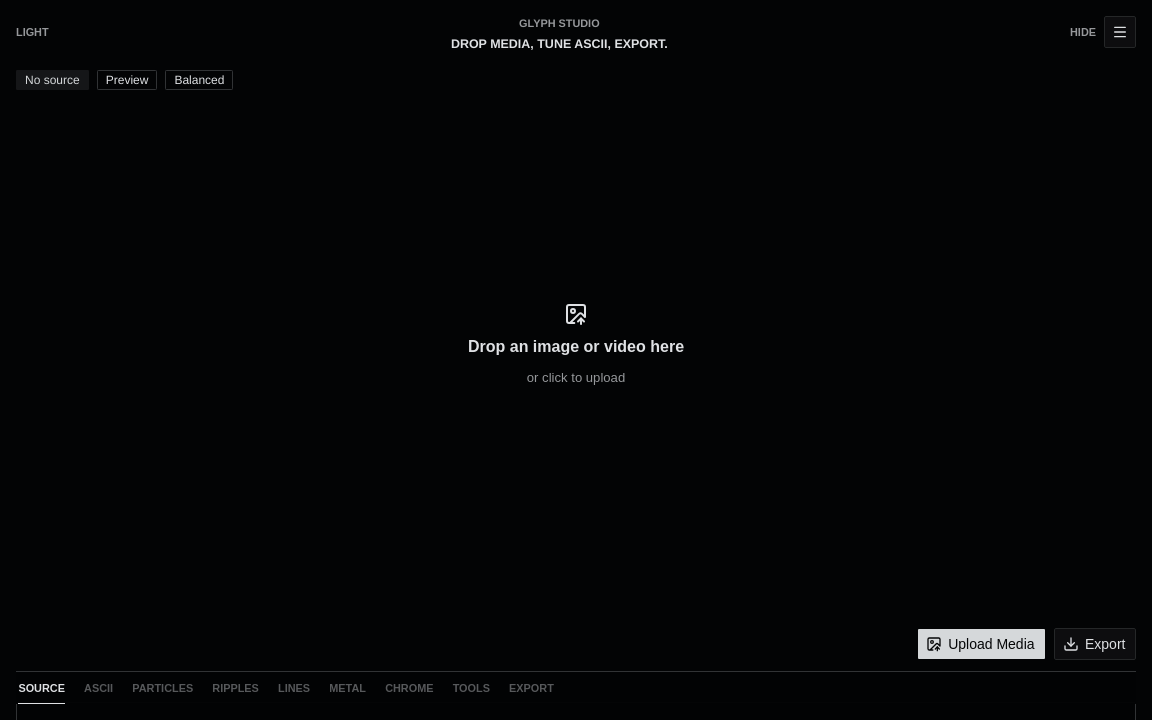
Scenario: Glyph Studio app shell › uses one active dynamic inspector for shader modes
Click the button "ASCII". click: (99, 688)
box: [84,672,113,704]
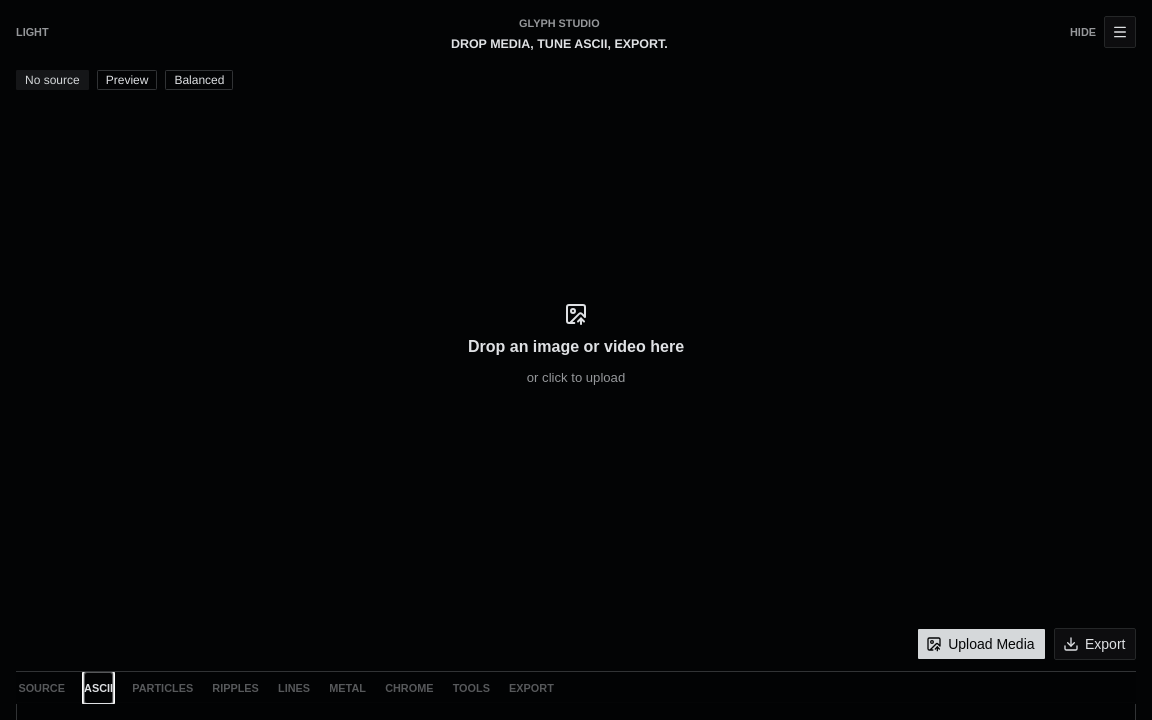
Click the button "PARTICLES". click: (163, 688)
box: [132,672,193,704]
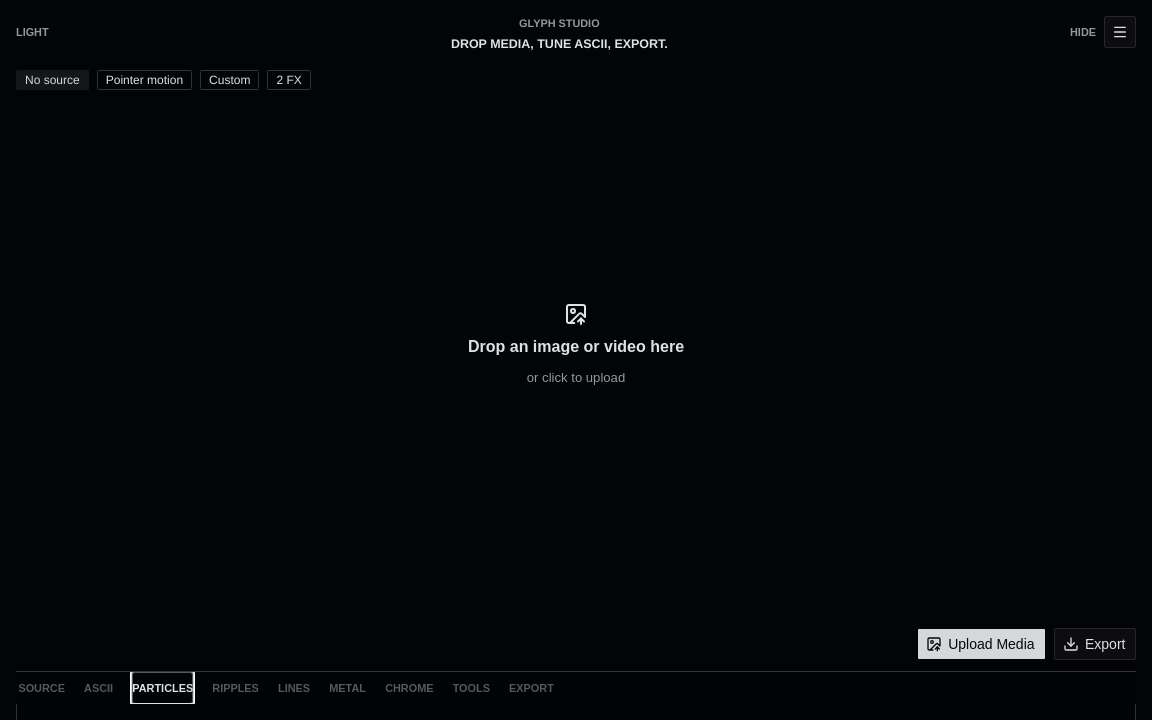
Click the button "RIPPLES". click: (236, 688)
box: [212,672,259,704]
(page scrolled)
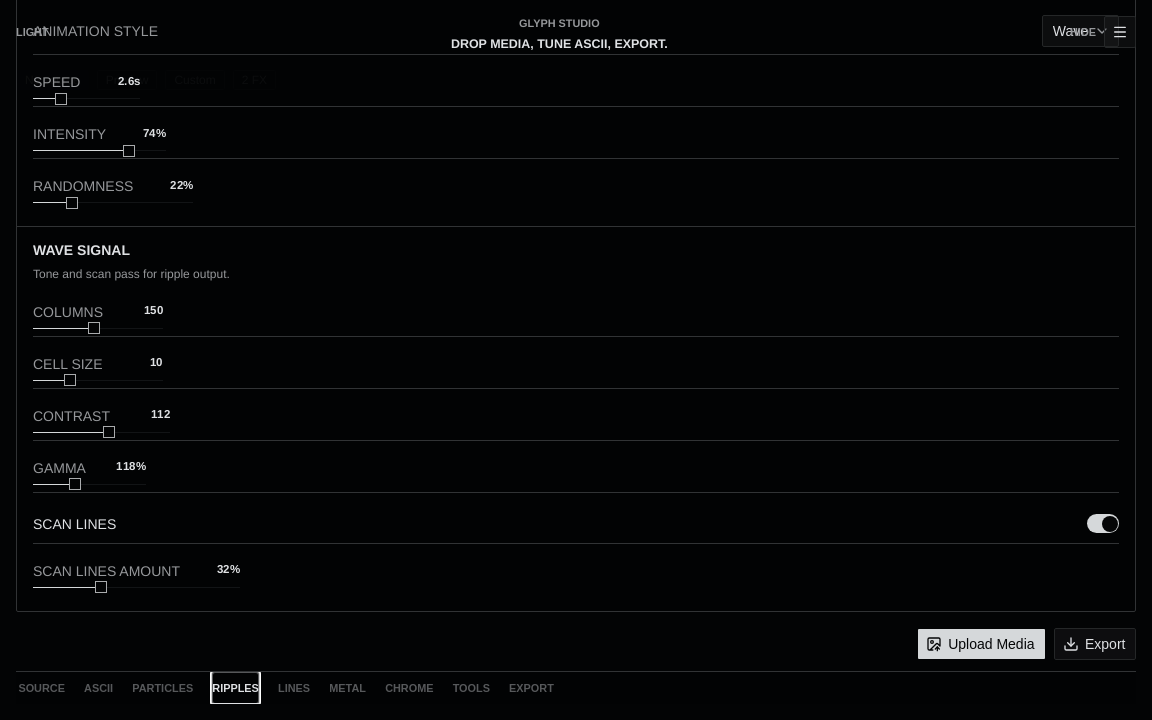
Expected: the dropdown named "Animation Style" is shown, [1042,15,1119,47]
Expected: the text "Scan Lines Amount" is shown, [33,564,180,578]
